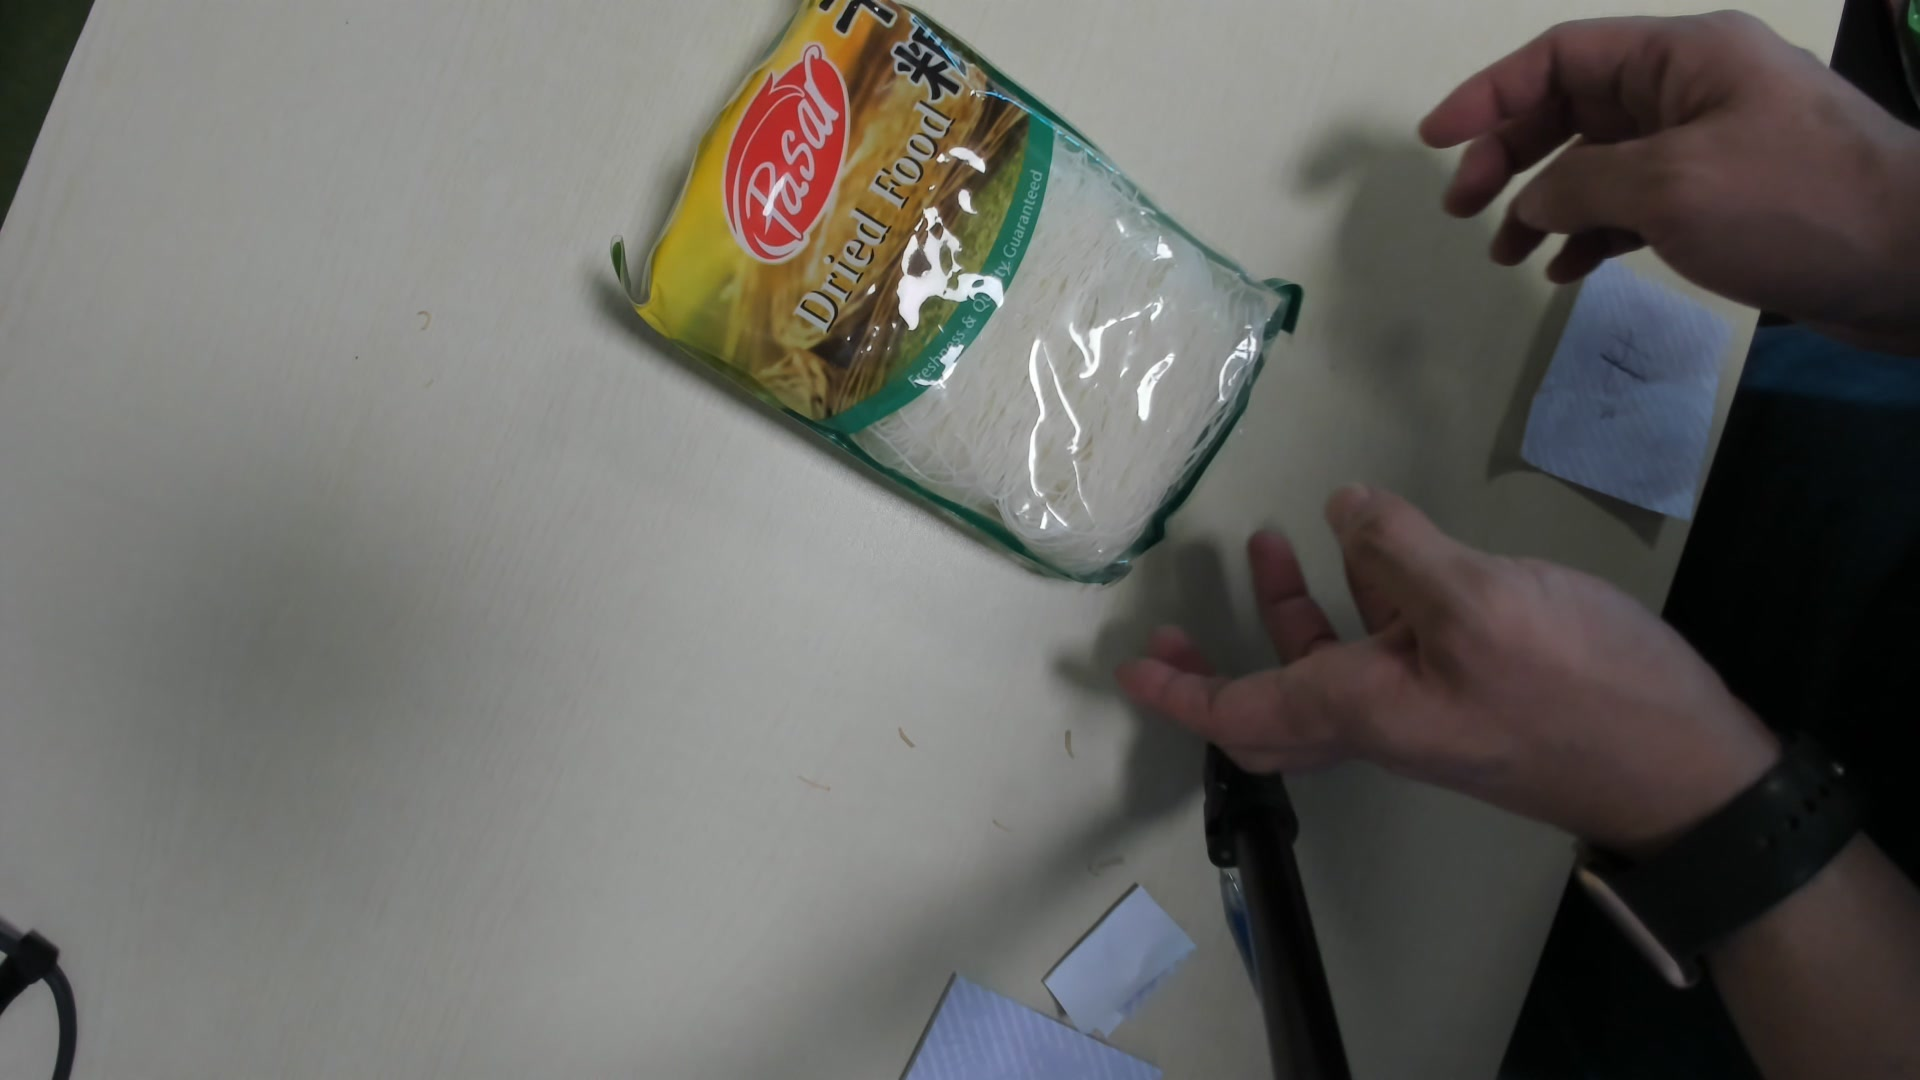BeeHoonVermicelli_100-199g_NonHalal_NonHealthy: (618, 9, 1298, 585)
